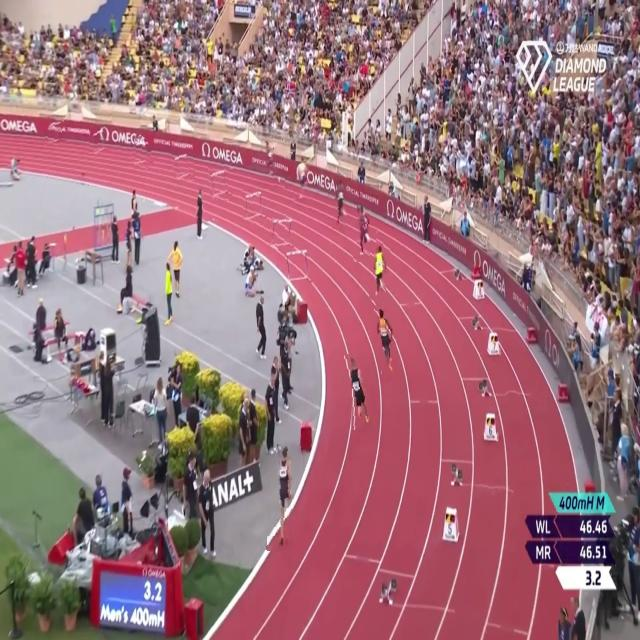athlete: (269, 445, 299, 552), (346, 354, 371, 430), (376, 304, 397, 374), (371, 239, 391, 301), (262, 138, 285, 190), (354, 202, 373, 263), (295, 148, 312, 208), (333, 178, 349, 230)
hurdle: (286, 243, 310, 283), (269, 214, 293, 248), (172, 148, 195, 182), (243, 187, 264, 224), (209, 165, 229, 202), (131, 136, 152, 169), (45, 116, 63, 147), (89, 125, 105, 154)
